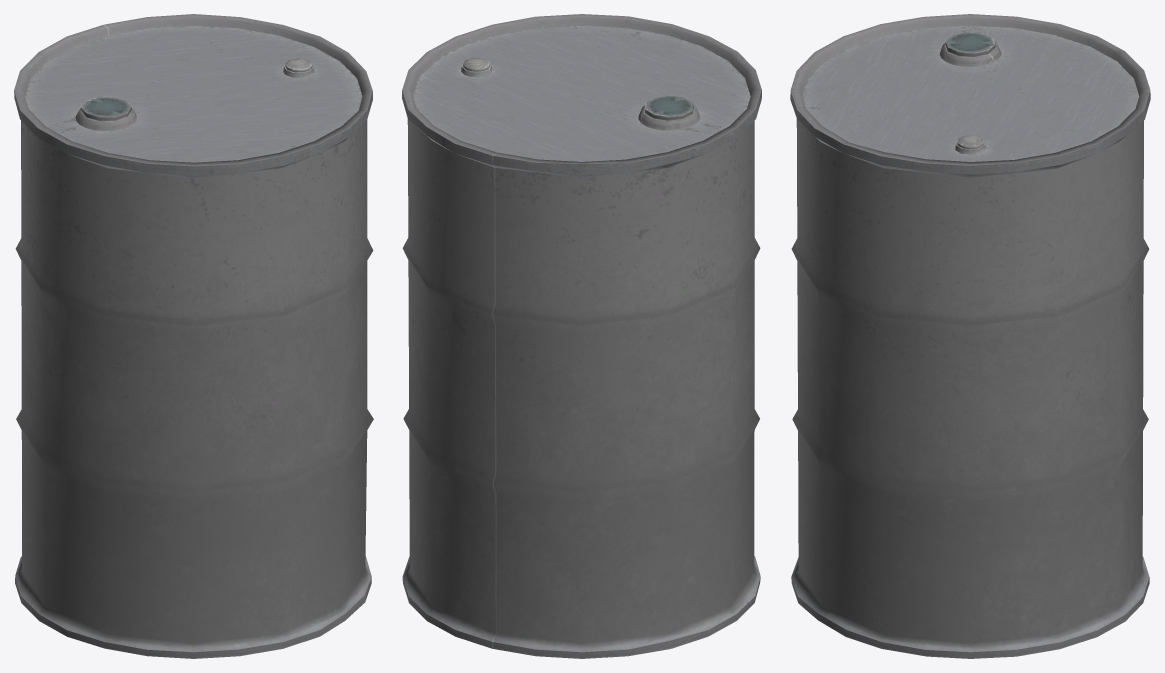
File: sm26_064_oilcan01a.fbx
The picture shows the model from 3 angles, left to right: view 1: azimuth 30°, elevation 25°; view 2: azimuth 150°, elevation 25°; view 3: azimuth 270°, elevation 25°; orthographic projection.
Visible parts, largest first — view 1: LOD_1_Group_0_Sub_1__sm26_064_oilCan01A_A_Mat; view 2: LOD_1_Group_0_Sub_1__sm26_064_oilCan01A_A_Mat; view 3: LOD_1_Group_0_Sub_1__sm26_064_oilCan01A_A_Mat.
Boxes of the visible parts, box(x1,y1,x2,y2) form: LOD_1_Group_0_Sub_1__sm26_064_oilCan01A_A_Mat: box(14, 14, 373, 658); LOD_1_Group_0_Sub_1__sm26_064_oilCan01A_A_Mat: box(402, 14, 761, 658); LOD_1_Group_0_Sub_1__sm26_064_oilCan01A_A_Mat: box(790, 14, 1150, 658).
Bounding box in the file's own units: 0.7863 × 1.2 × 0.7883.
